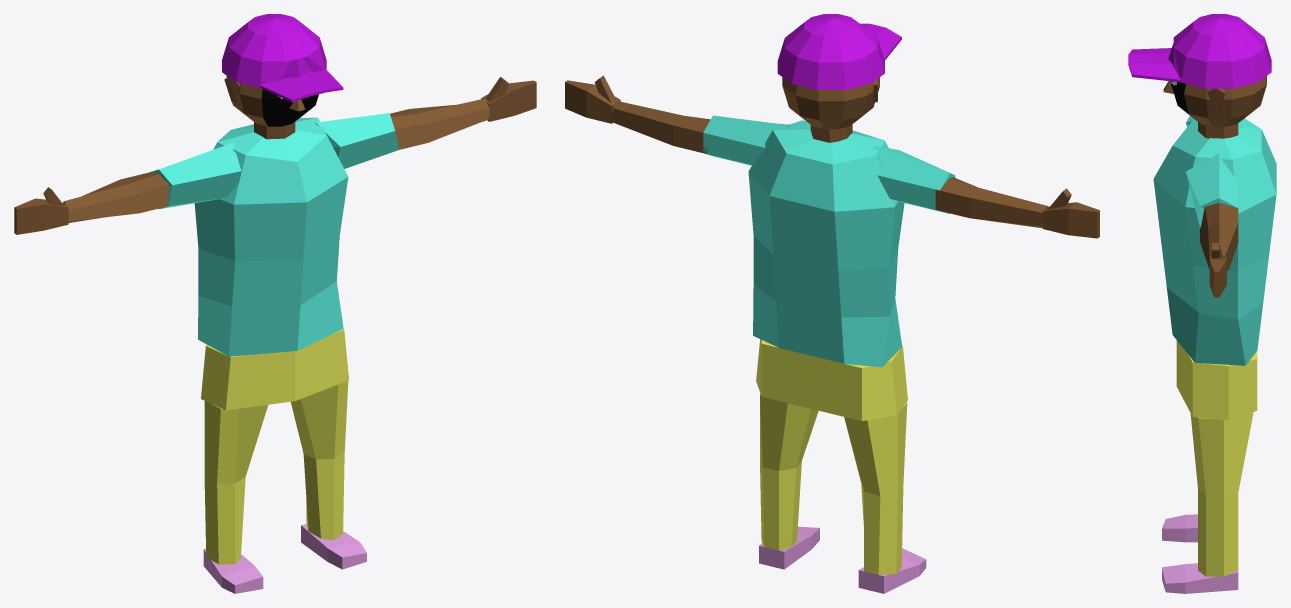
Rendered from player1_v2.fbx.
3 views of the same model, side by side, from view 1: azimuth 30°, elevation 25°; view 2: azimuth 150°, elevation 25°; view 3: azimuth 270°, elevation 25° (orthographic). The views are drawn at different scales.
Visible parts, largest first — view 1: torso, hips, shoulders, leg_right, leg_left, hat, sleeve_right, arm_right, arm_left, sleeve_left, foot_left, hand_right (+5 smaller); view 2: torso, shoulders, hips, leg_right, hat, leg_left, arm_right, head, sleeve_right, arm_left, sleeve_left, hand_right (+3 smaller); view 3: torso, leg_left, hat, shoulders, hips, head, sleeve_left, arm_left, foot_left, hat_bill, foot_right, hand_left (+3 smaller).
Part boxes in pixels (<box>): torso: <box>194,177,348,356</box>; hips: <box>201,329,348,410</box>; shoulders: <box>213,117,348,204</box>; leg_right: <box>204,401,268,564</box>; leg_left: <box>291,381,348,540</box>; hat: <box>222,14,326,88</box>; sleeve_right: <box>150,143,241,209</box>; arm_right: <box>63,172,169,222</box>; arm_left: <box>390,98,489,149</box>; sleeve_left: <box>315,113,399,168</box>; foot_left: <box>301,524,366,569</box>; hand_right: <box>14,198,68,234</box>; torso: <box>748,172,904,367</box>; shoulders: <box>748,120,897,211</box>; hips: <box>756,339,907,420</box>; leg_right: <box>844,402,907,574</box>; hat: <box>777,14,884,89</box>; leg_left: <box>760,393,818,550</box>; arm_right: <box>935,177,1048,228</box>; head: <box>782,77,879,129</box>; sleeve_right: <box>873,146,955,213</box>; arm_left: <box>611,100,710,153</box>; sleeve_left: <box>703,115,790,165</box>; hand_right: <box>1043,202,1099,238</box>; torso: <box>1153,179,1276,365</box>; leg_left: <box>1190,412,1253,576</box>; hat: <box>1168,14,1271,88</box>; shoulders: <box>1153,118,1276,213</box>; hips: <box>1176,340,1257,420</box>; head: <box>1184,76,1266,126</box>; sleeve_left: <box>1186,153,1238,227</box>; arm_left: <box>1200,203,1238,270</box>; foot_left: <box>1162,563,1238,593</box>; hat_bill: <box>1128,48,1181,82</box>; foot_right: <box>1162,514,1197,542</box>; hand_left: <box>1209,256,1226,297</box>.
Size of the model in its own units: 197 by 195 by 48.44.
6 materials, 6 textured.
